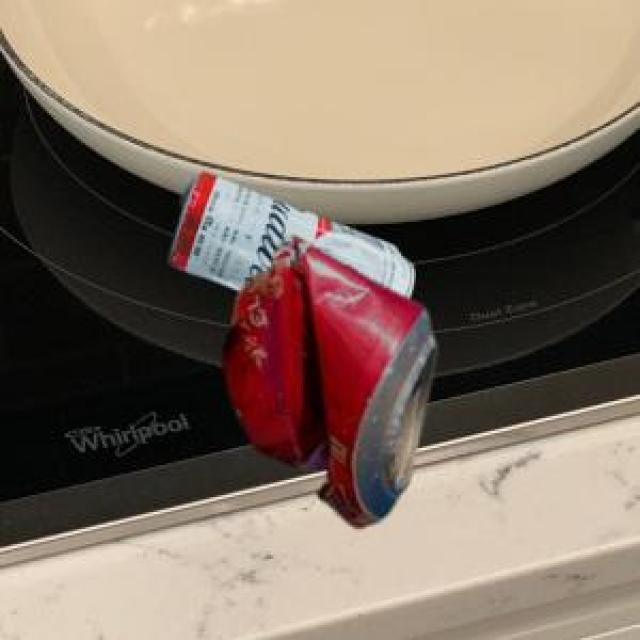Can: (221, 234, 432, 524), (165, 170, 411, 295)
